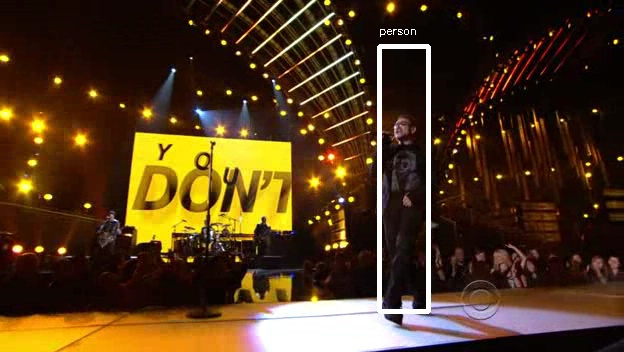person: (372, 114, 438, 221), (369, 114, 435, 221), (375, 114, 441, 221), (372, 111, 438, 218), (372, 117, 438, 224)
target_negative: (427, 60, 614, 347), (342, 171, 487, 283), (508, 20, 621, 155), (56, 335, 526, 348), (24, 329, 238, 338), (537, 172, 567, 173)
